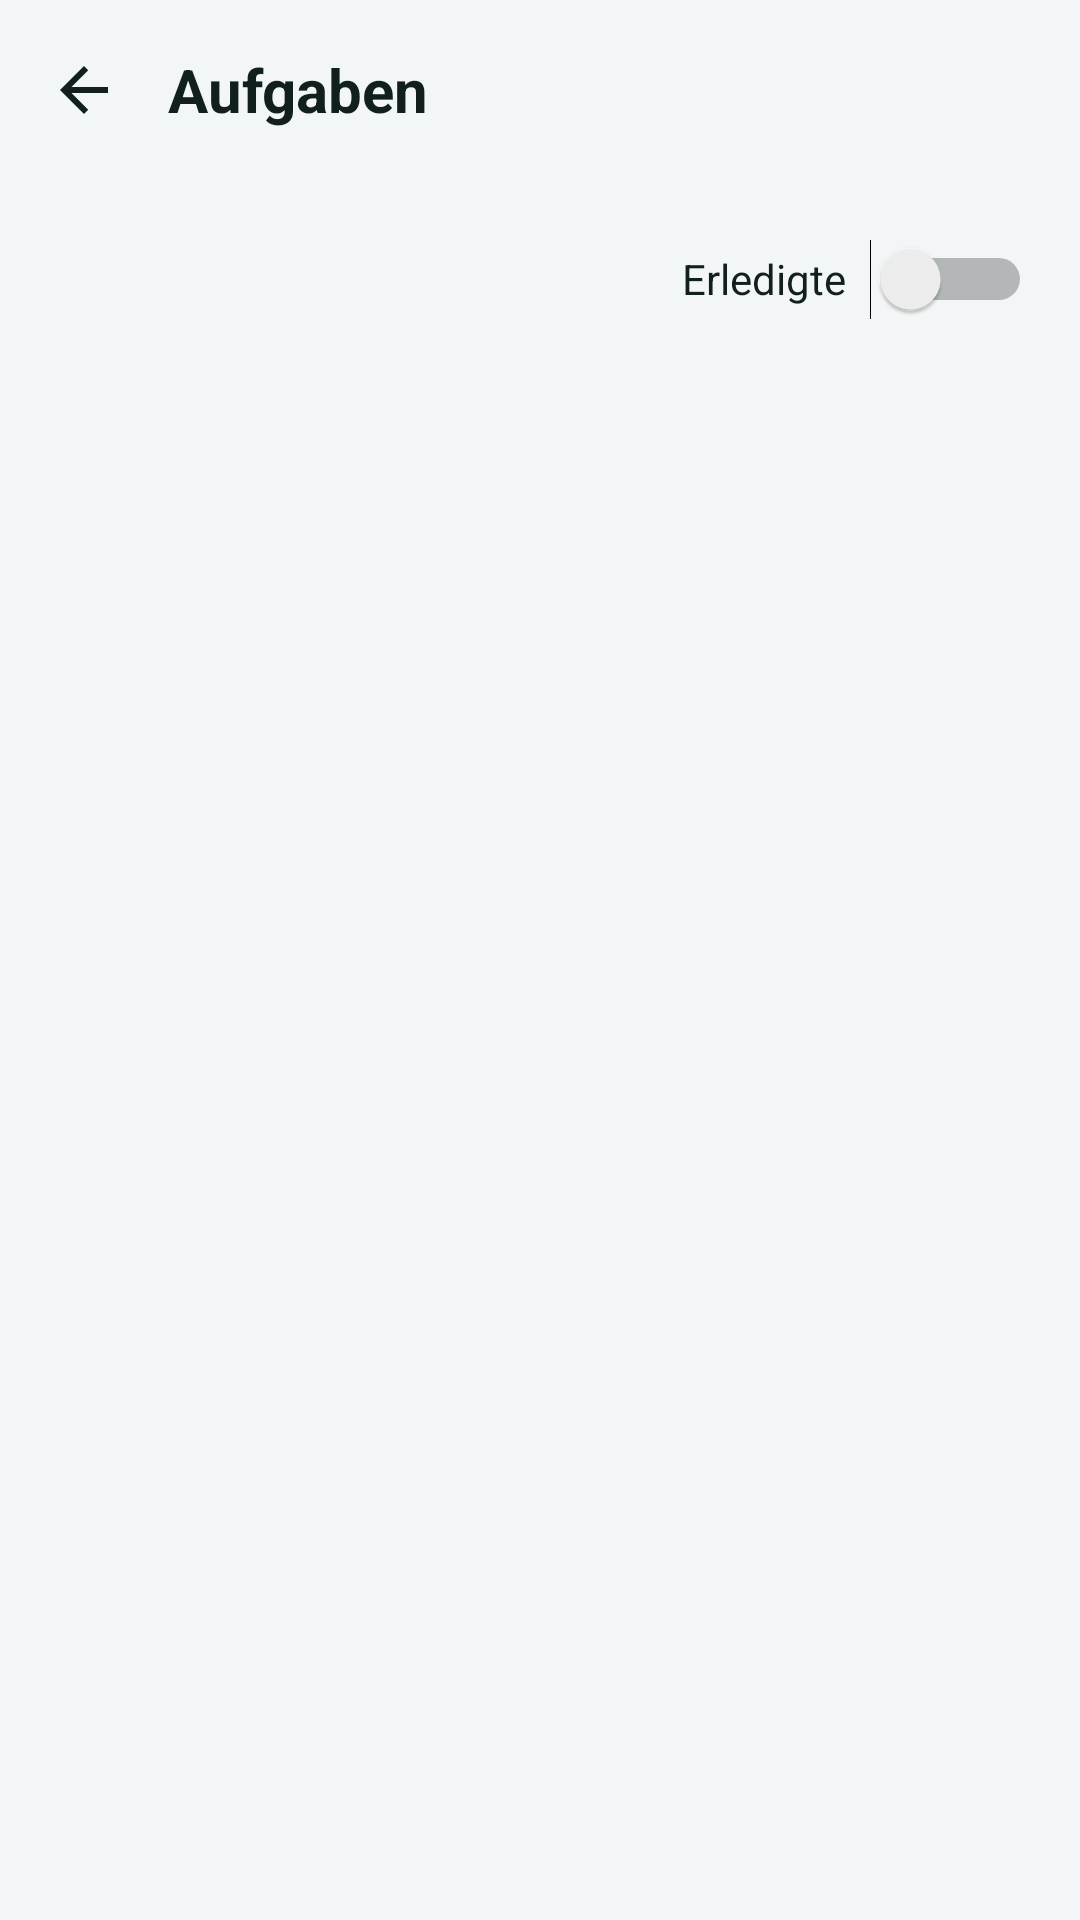

Named icons in this screenshot (1080x1920) and their centers, point (x, y):
Zurück: point (84, 90)
